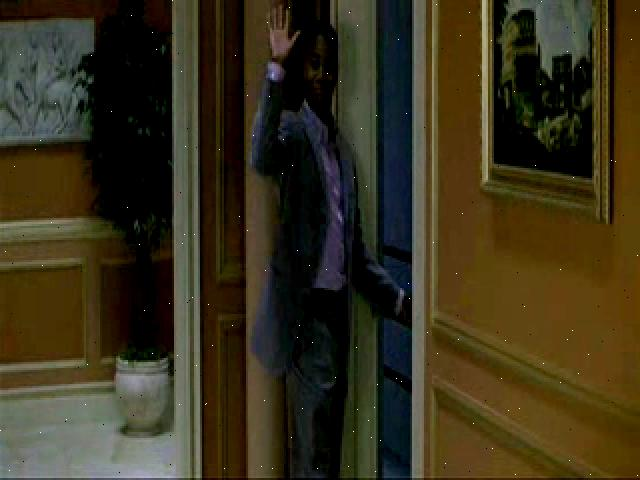T: (240, 1, 416, 475)
